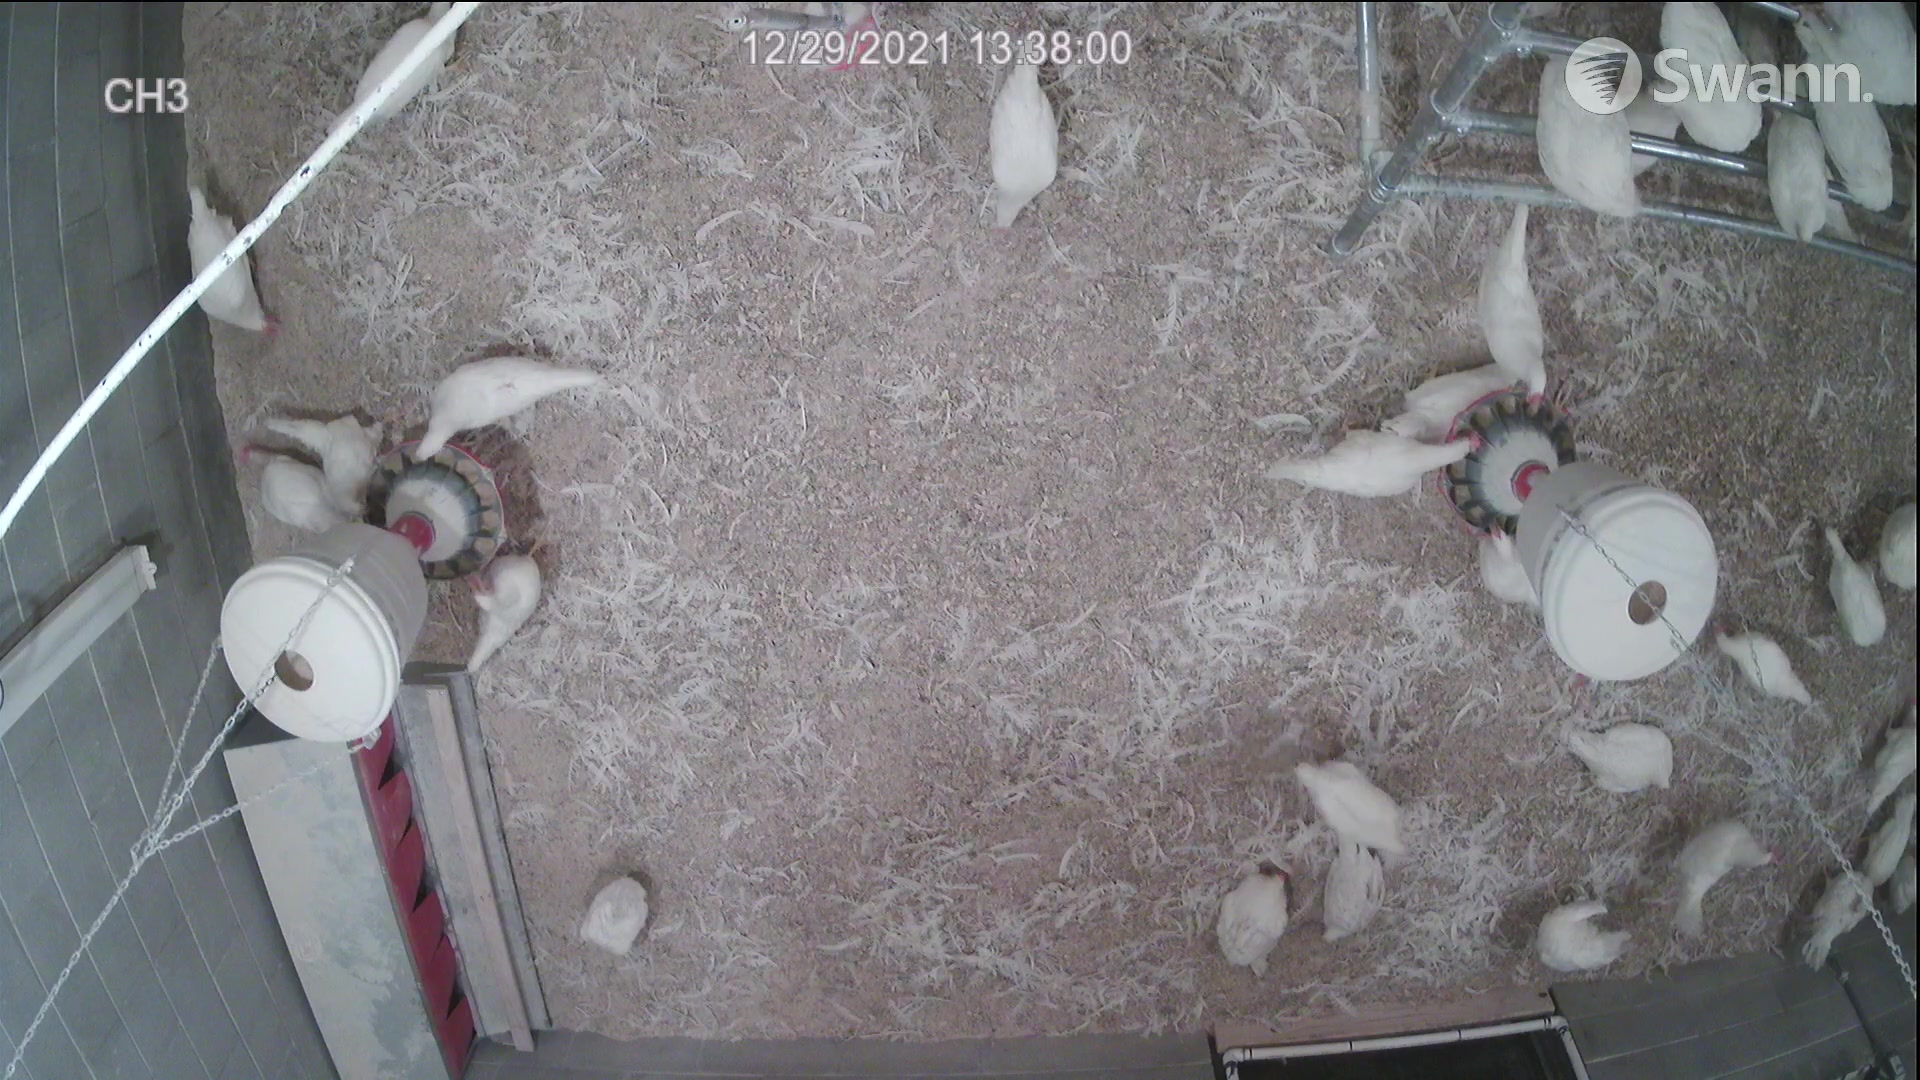Dust Bathing: (1215, 855, 1302, 996)
Feeding: (1269, 410, 1495, 513), (405, 349, 593, 472), (1480, 190, 1575, 411)
Foraging: (978, 47, 1058, 236), (1812, 524, 1899, 662), (1709, 625, 1836, 713), (568, 876, 655, 971)
Perching: (1524, 46, 1643, 208), (1648, 0, 1754, 152), (1811, 70, 1888, 222), (1759, 105, 1837, 251)
Preening: (1539, 898, 1636, 975)
